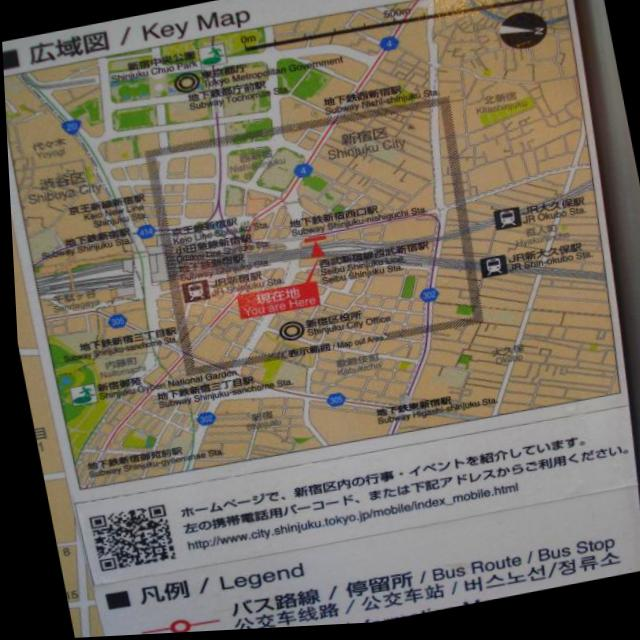qrcode: (84, 505, 171, 574)
